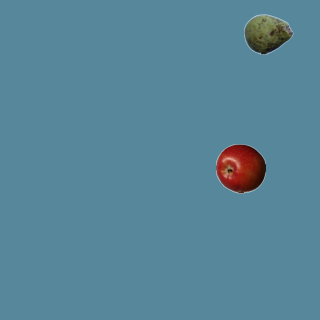Apple Braeburn: (215, 143, 265, 193)
Pear Stone: (243, 9, 293, 59)
